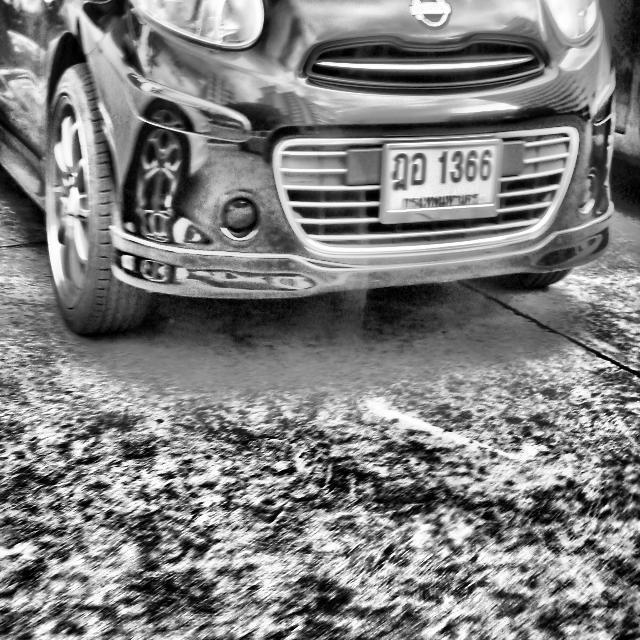license-plate: (383, 139, 500, 217)
